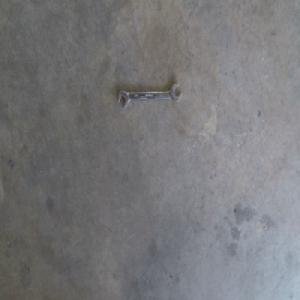Wrench: (117, 82, 182, 109)
